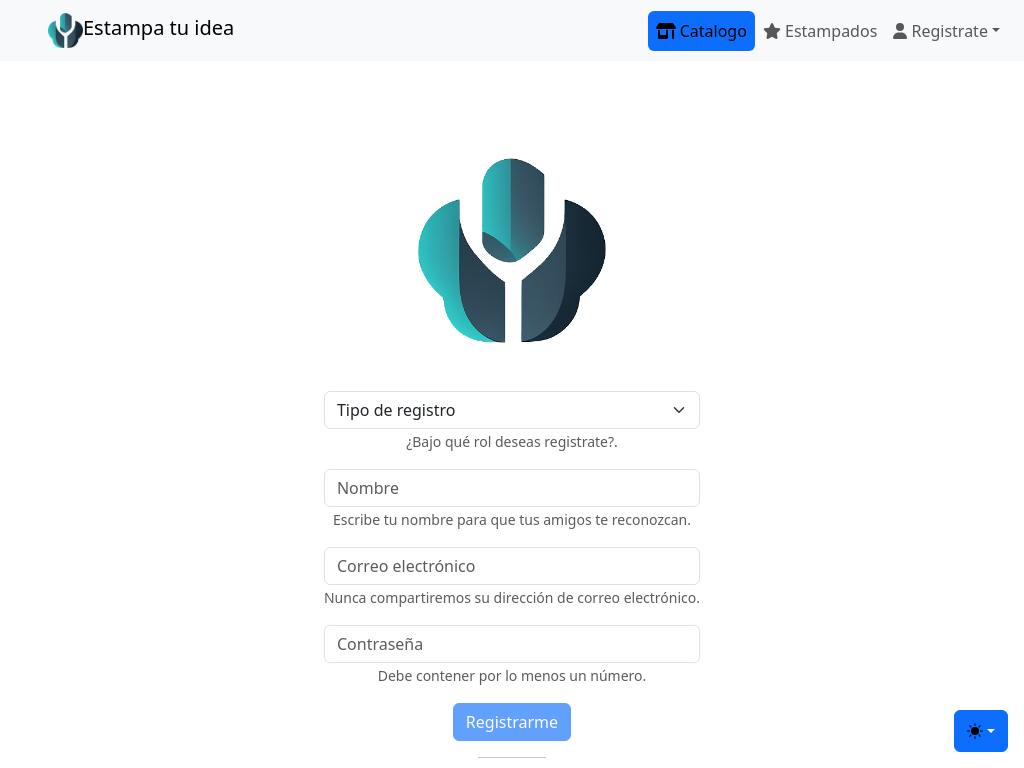
Scenario: Pruebas unitarias › No se recibe un nombre con mas de 45 caracteres
Completa el formulario de registro
Type "1234567890123456789012345678901234567890123456" into the field with test id "Nombre" at {"x": 512, "y": 488}, box [324,469,700,507]
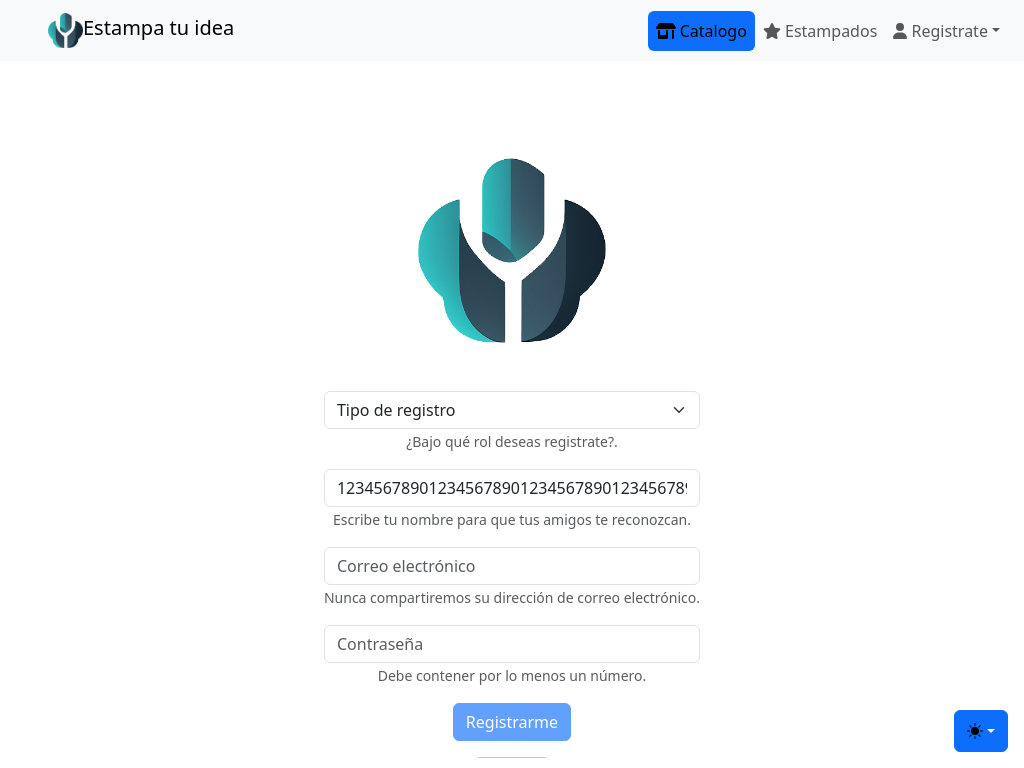
Type "email@example.com" into the field with test id "Correo" at {"x": 512, "y": 566}, box [324,547,700,585]
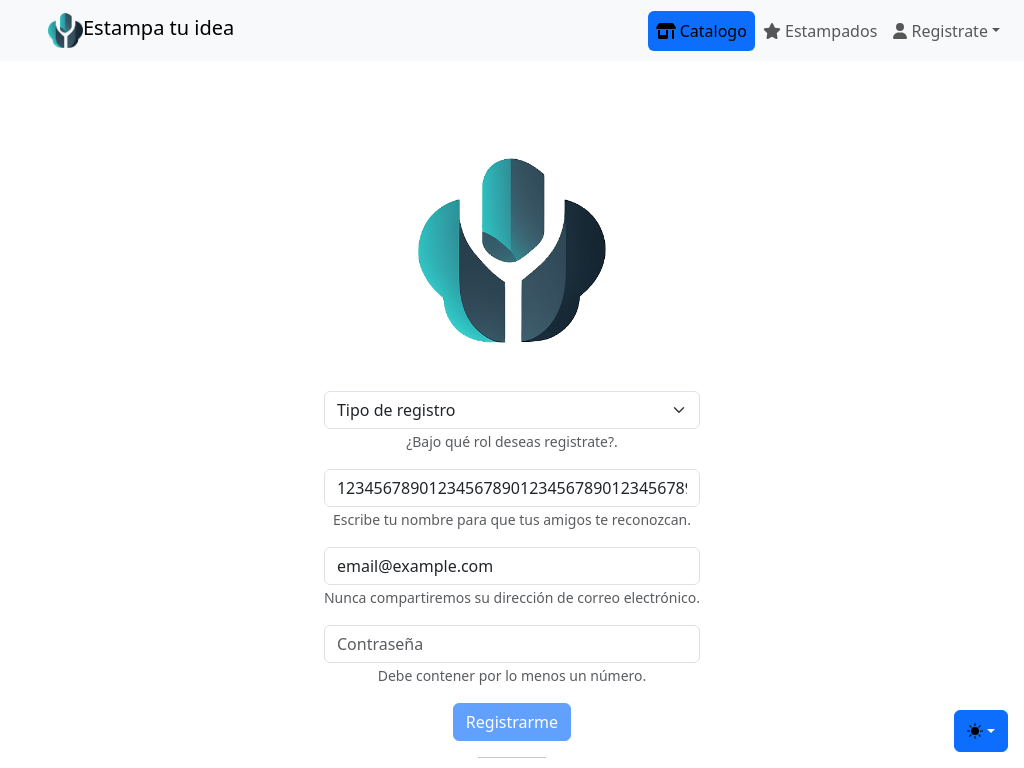
Type "123456" into the password field with test id "Contraseña" at {"x": 512, "y": 644}, box [324,625,700,663]
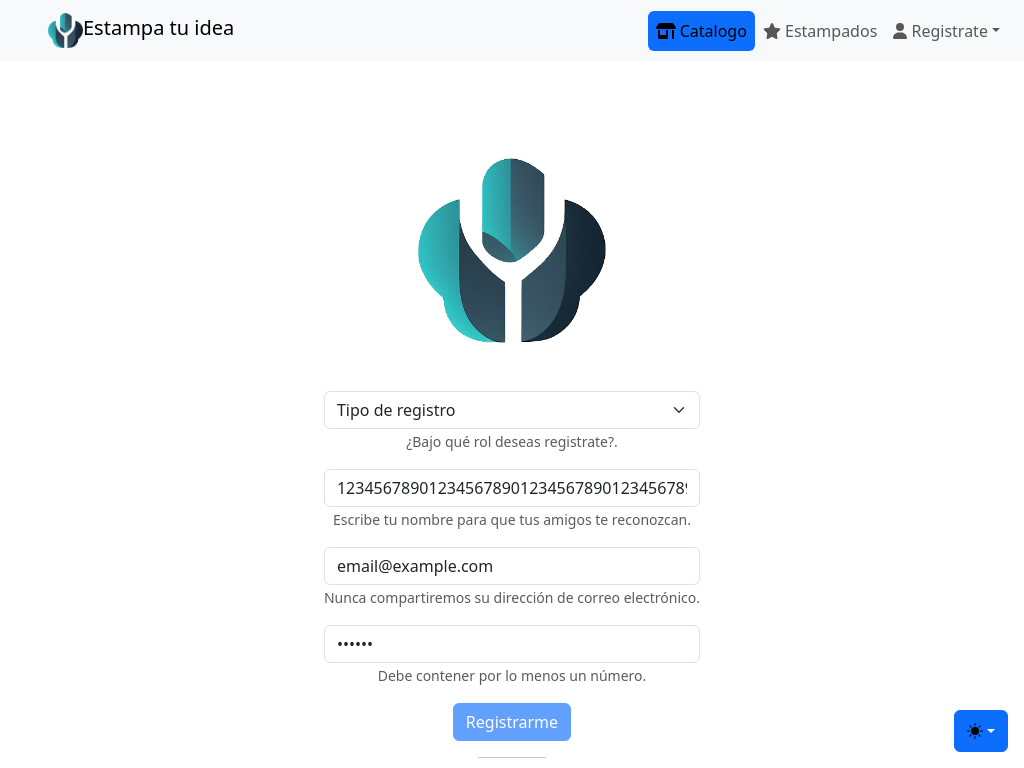
Select "Cliente" in the dropdown with test id "Tipo de registro" at {"x": 512, "y": 410}, box [324,391,700,429]
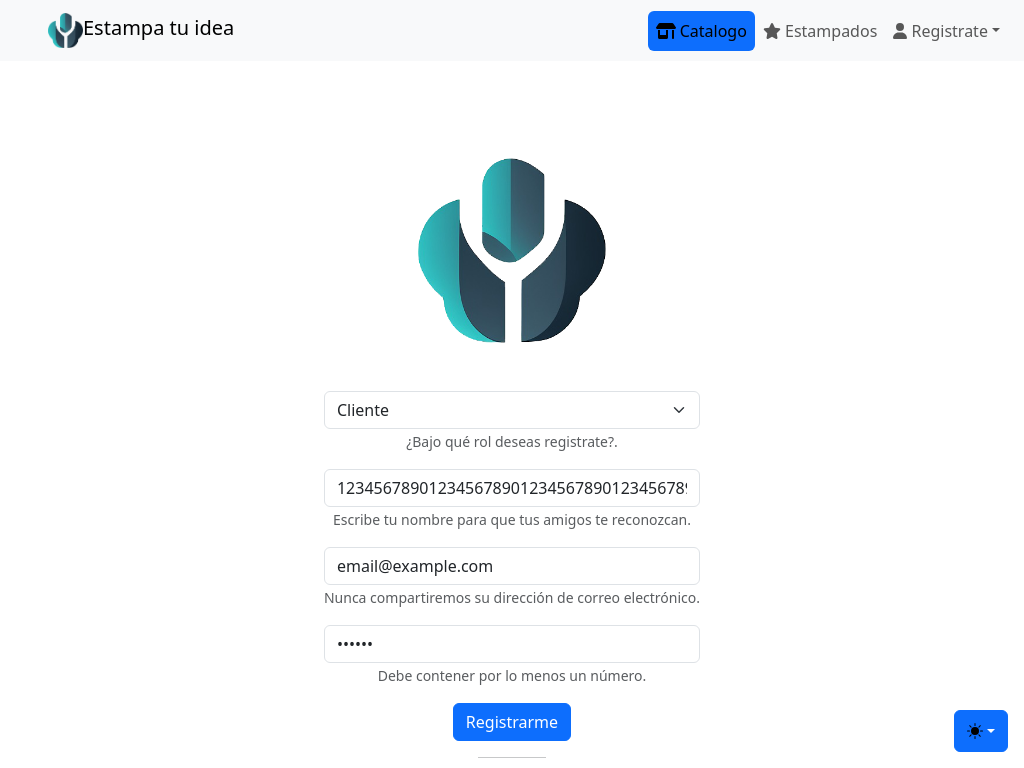
Envía el formulario
Click the button with test id "Registrarme" at {"x": 512, "y": 722}, box [453,703,571,741]
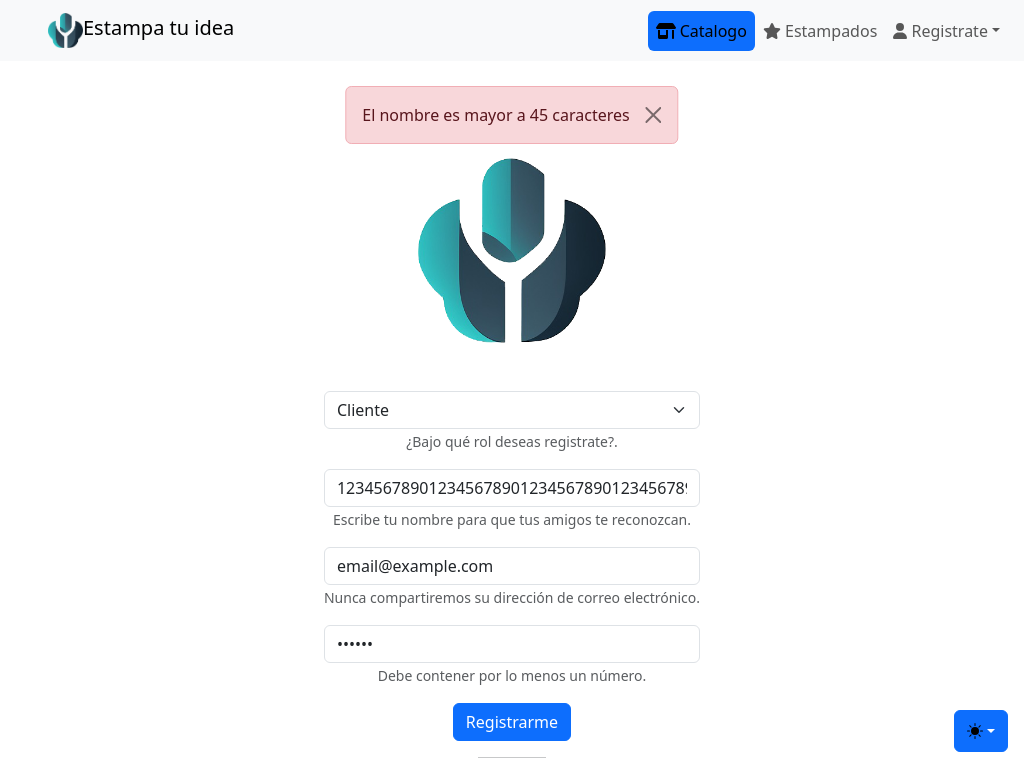
Expected: the text "El nombre es mayor a 45 caracteres" is shown, [345,86,679,144]
